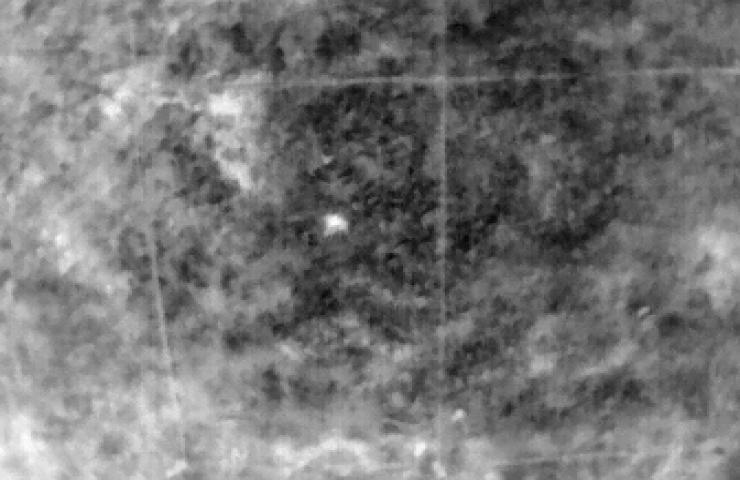landmines: (323, 213, 349, 237)
